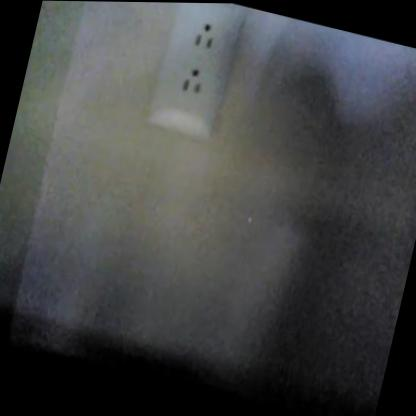OUTLET: (147, 2, 245, 143)
